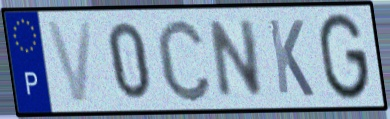0: (105, 19, 154, 102)
C: (153, 15, 215, 105)
G: (317, 11, 372, 104)
K: (265, 16, 317, 100)
N: (208, 17, 266, 101)
V: (43, 17, 96, 106)
